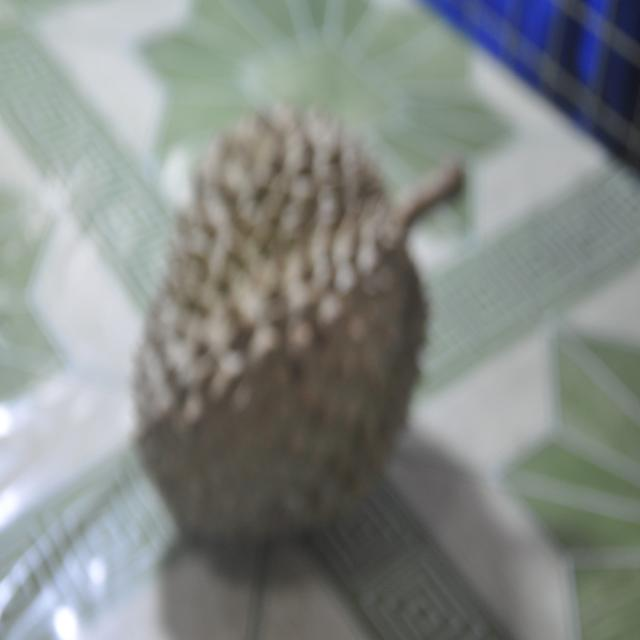mature: (118, 75, 490, 558)
